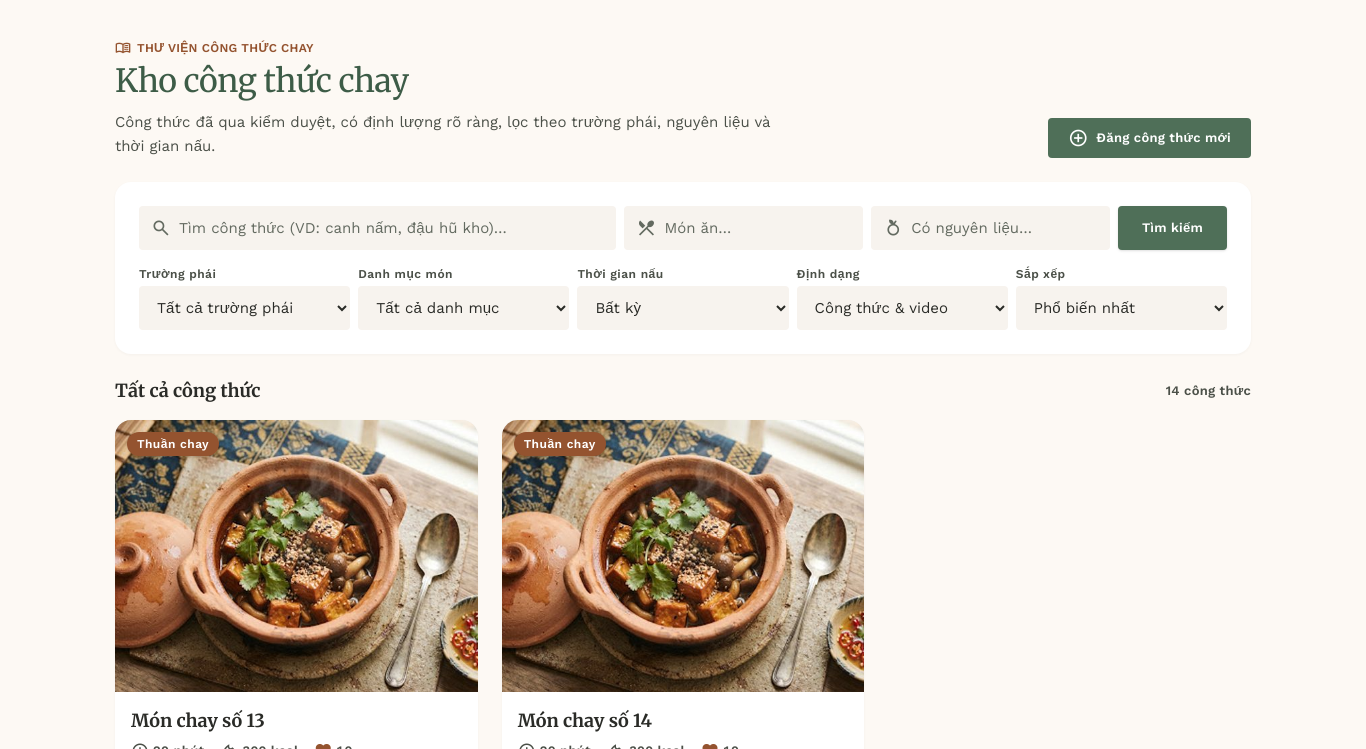
Scenario: RecipeList (SCR-11) › đổi bộ lọc thì về trang 1 và ghi vào URL
Expected: the link "Món chay số 13" is shown, [131, 709, 265, 732]
Select "Thuần chay" in the dropdown labelled "Trường phái" at (245, 308), box [139, 286, 350, 330]
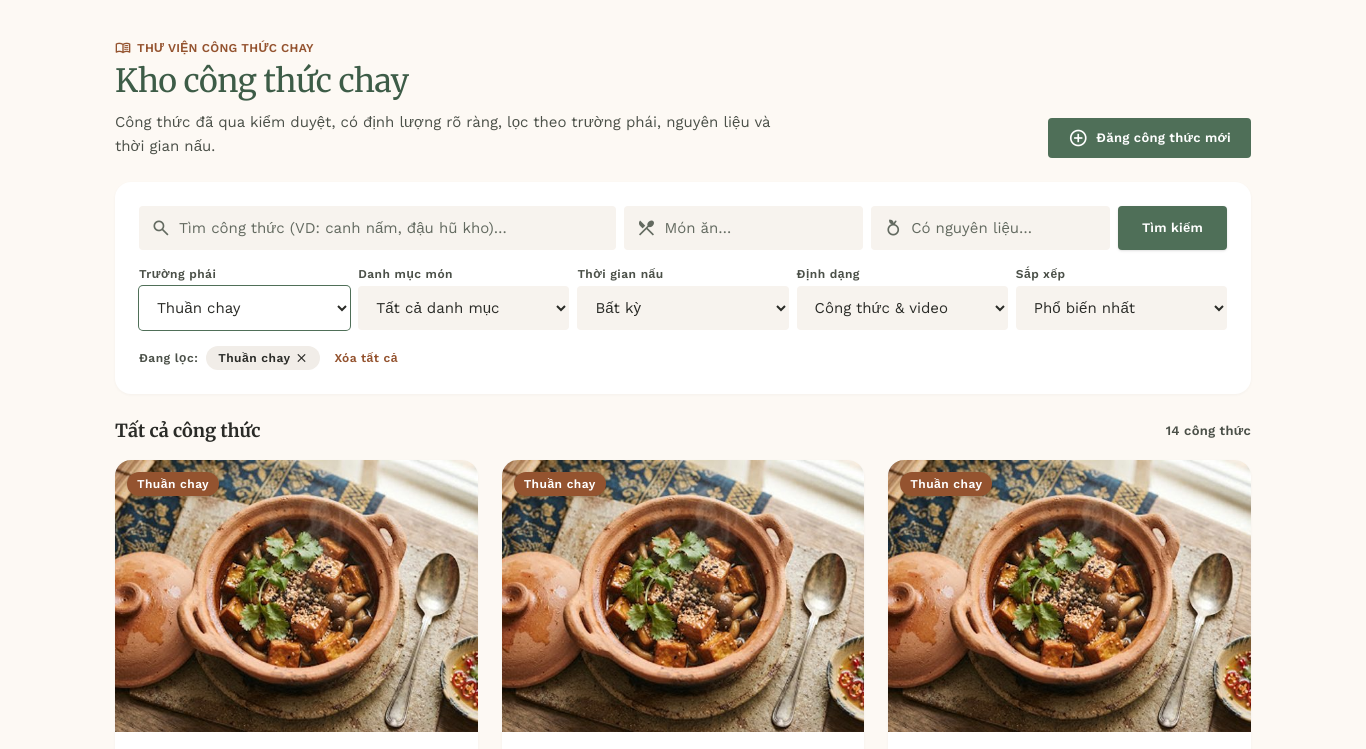
Select "Dưới 30 phút" in the dropdown labelled "Thời gian nấu" at (683, 308), box [577, 286, 789, 330]
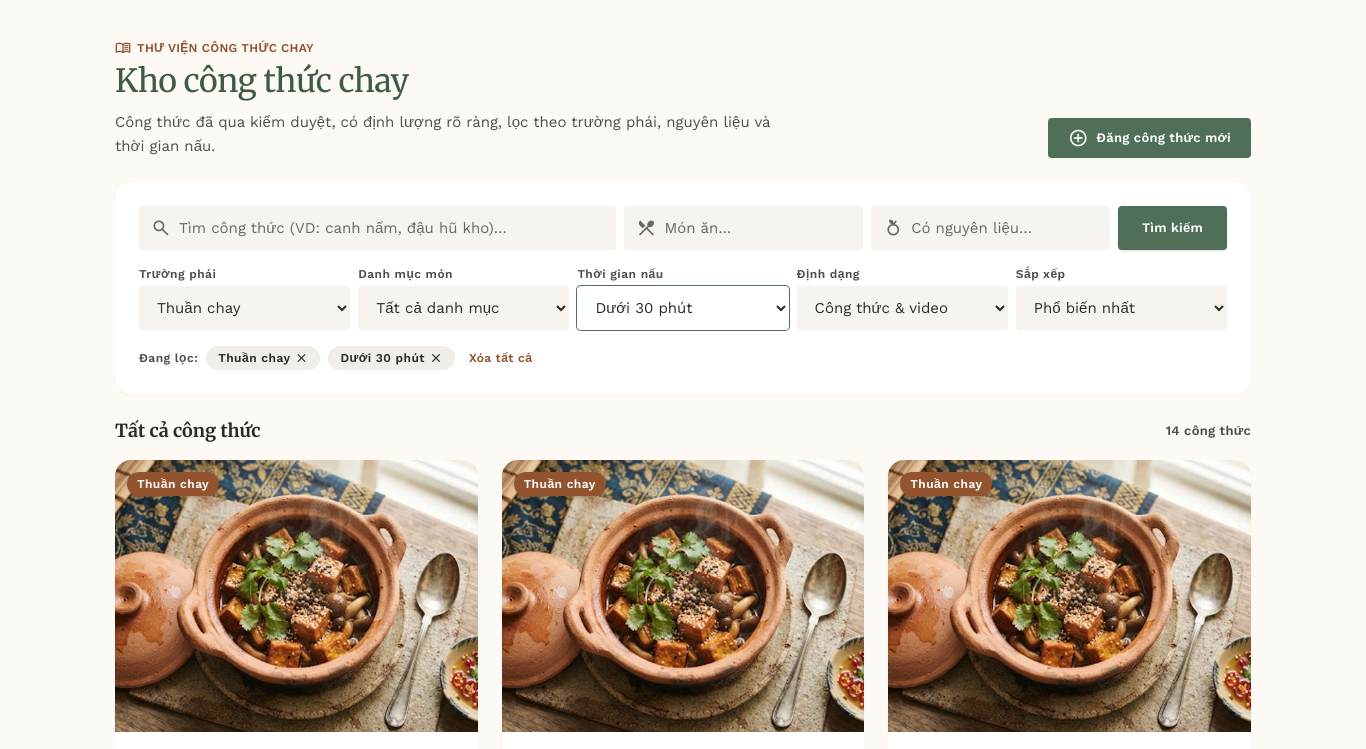
Type "đậu hũ" into the search field named "Tìm công thức theo tên hoặc mô tả" at (378, 228), box [139, 206, 616, 250]
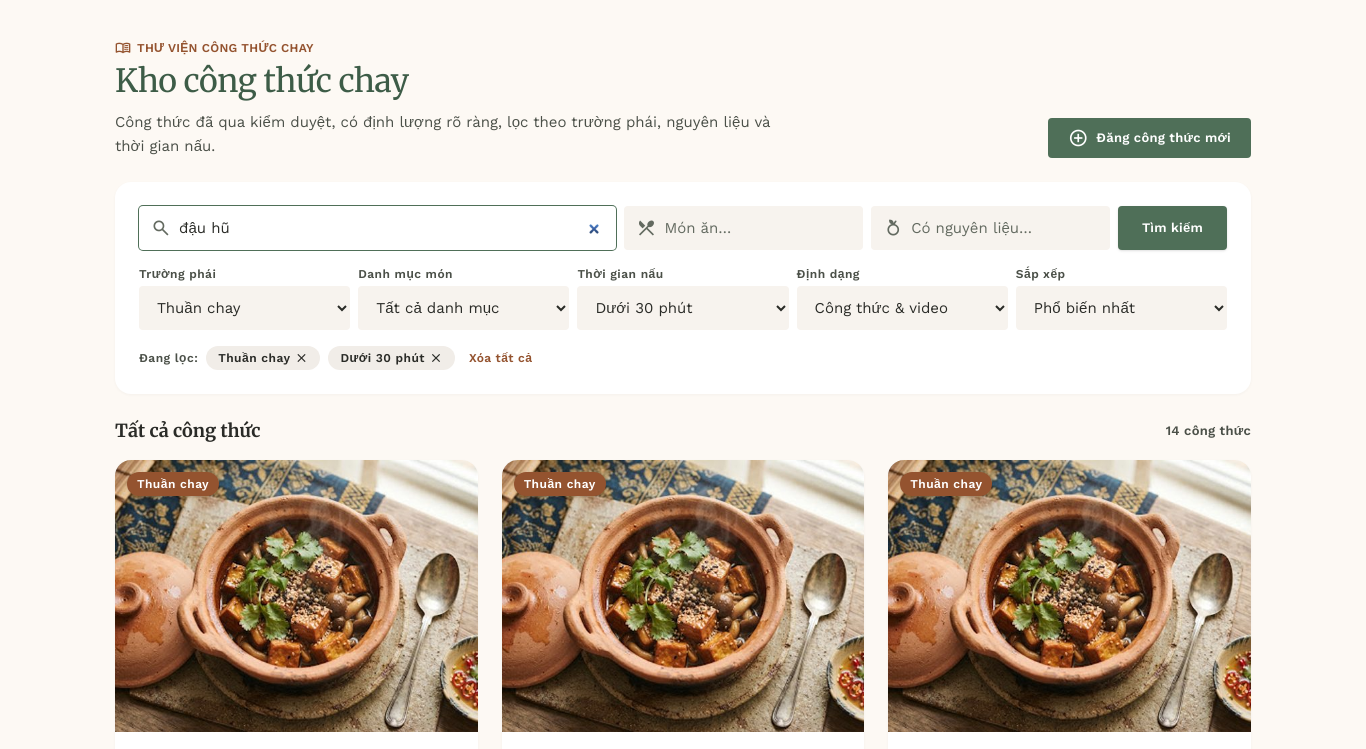
Type "nấm" into the search field labelled "Có nguyên liệu" at (991, 228), box [871, 206, 1110, 250]
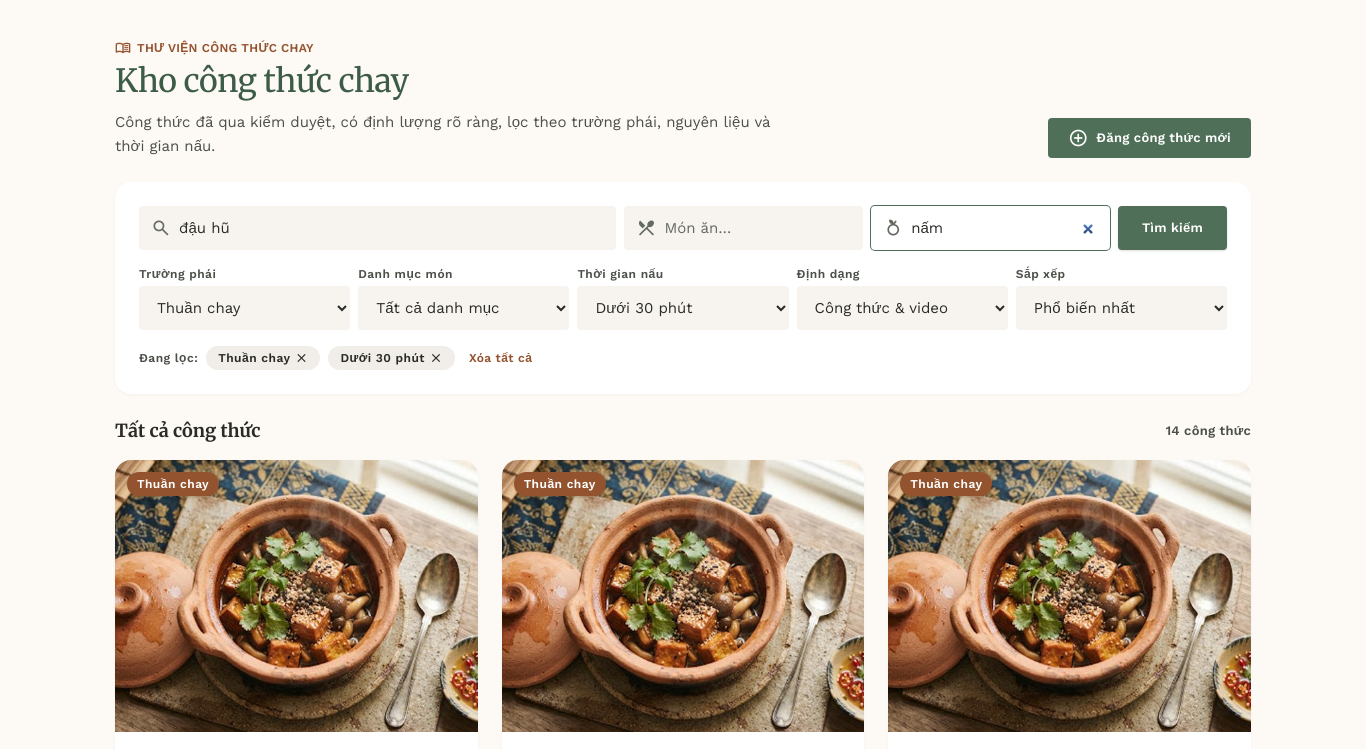
Click the button "Tìm kiếm" at (1172, 228), box [1118, 206, 1227, 250]
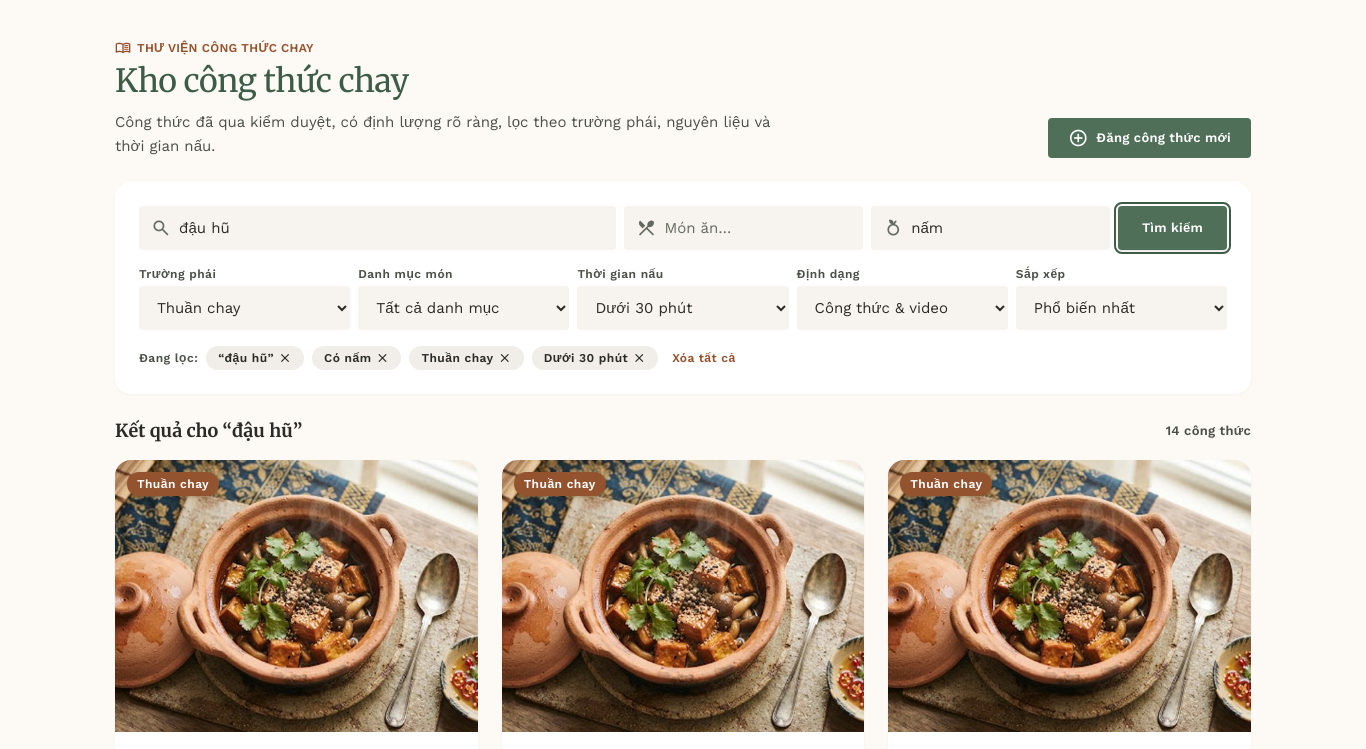
Now the heading "Kết quả cho “đậu hũ”" is shown, box [115, 418, 302, 444]
